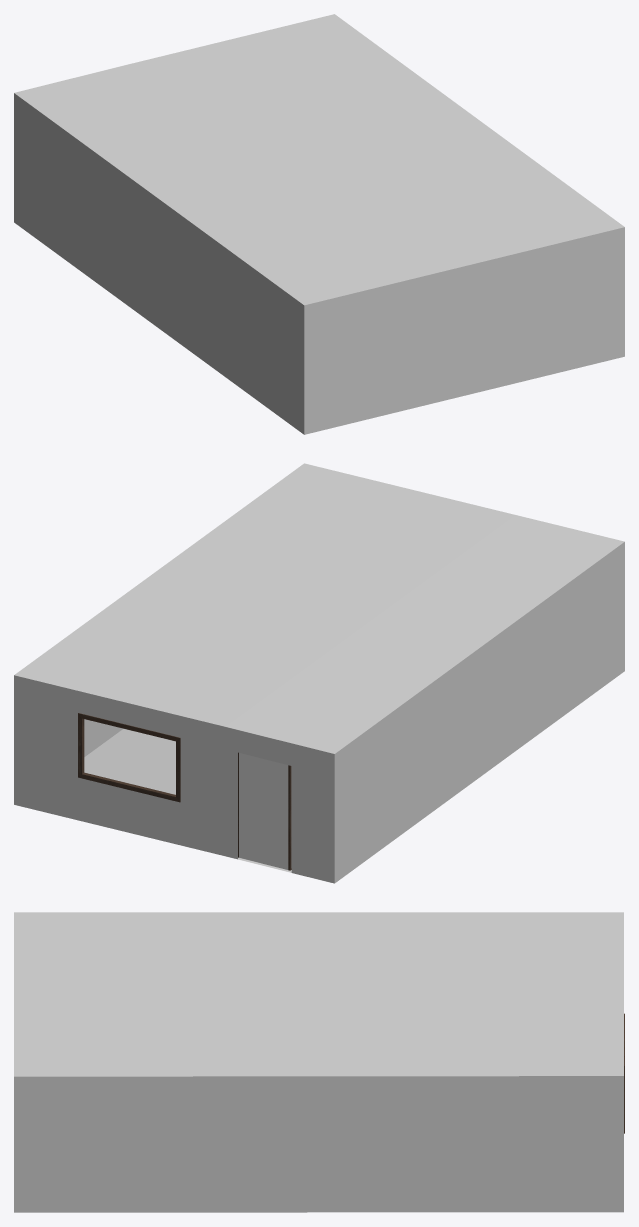
File: House_1.fbx
3 renders of one model, top to bottom at view 1: azimuth 30°, elevation 25°; view 2: azimuth 150°, elevation 25°; view 3: azimuth 270°, elevation 25°, orthographic. The views are drawn at different scales.
Visible parts, largest first — view 1: Cube; view 2: Cube; view 3: Cube.
Boxes of the visible parts, left/top/right/bottom form: Cube: left=14, top=14, right=624, bottom=434; Cube: left=14, top=463, right=624, bottom=883; Cube: left=14, top=912, right=624, bottom=1212.
Bounding box in the file's own units: 543 × 210 × 852.
